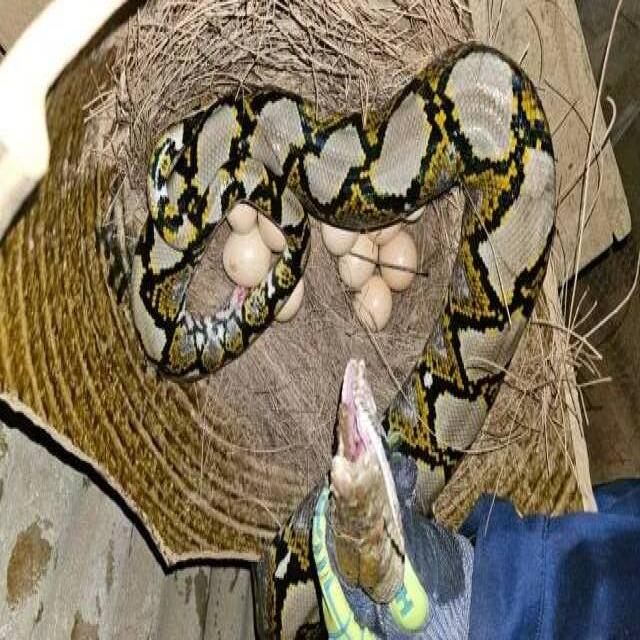Non-Venomous: (151, 84, 542, 603)
